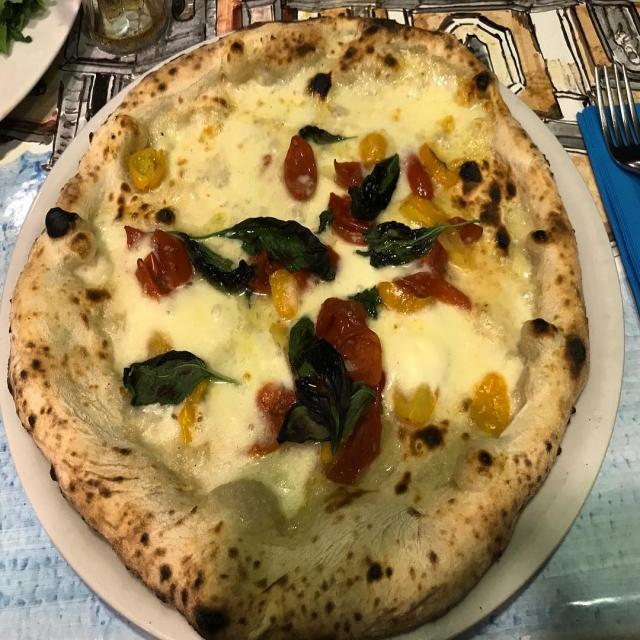basil: (188, 208, 337, 283), (287, 314, 355, 456), (122, 346, 241, 412), (276, 379, 378, 450), (355, 215, 482, 270), (162, 226, 255, 297), (348, 149, 400, 221), (297, 122, 361, 147), (346, 286, 382, 320), (317, 204, 337, 237)
pizza: (5, 12, 593, 640)
tomatoes: (321, 372, 386, 489), (313, 298, 383, 388), (122, 224, 194, 299), (250, 241, 342, 295), (248, 378, 300, 462), (462, 366, 509, 438), (393, 274, 474, 310), (328, 192, 376, 248), (283, 134, 323, 201), (394, 369, 441, 425), (177, 378, 212, 445), (374, 279, 438, 315), (128, 148, 174, 192), (418, 144, 459, 190), (403, 148, 436, 200), (400, 194, 447, 229), (268, 270, 300, 320), (332, 156, 374, 188), (446, 213, 484, 244), (360, 129, 386, 165), (420, 239, 447, 273), (147, 335, 174, 353)
